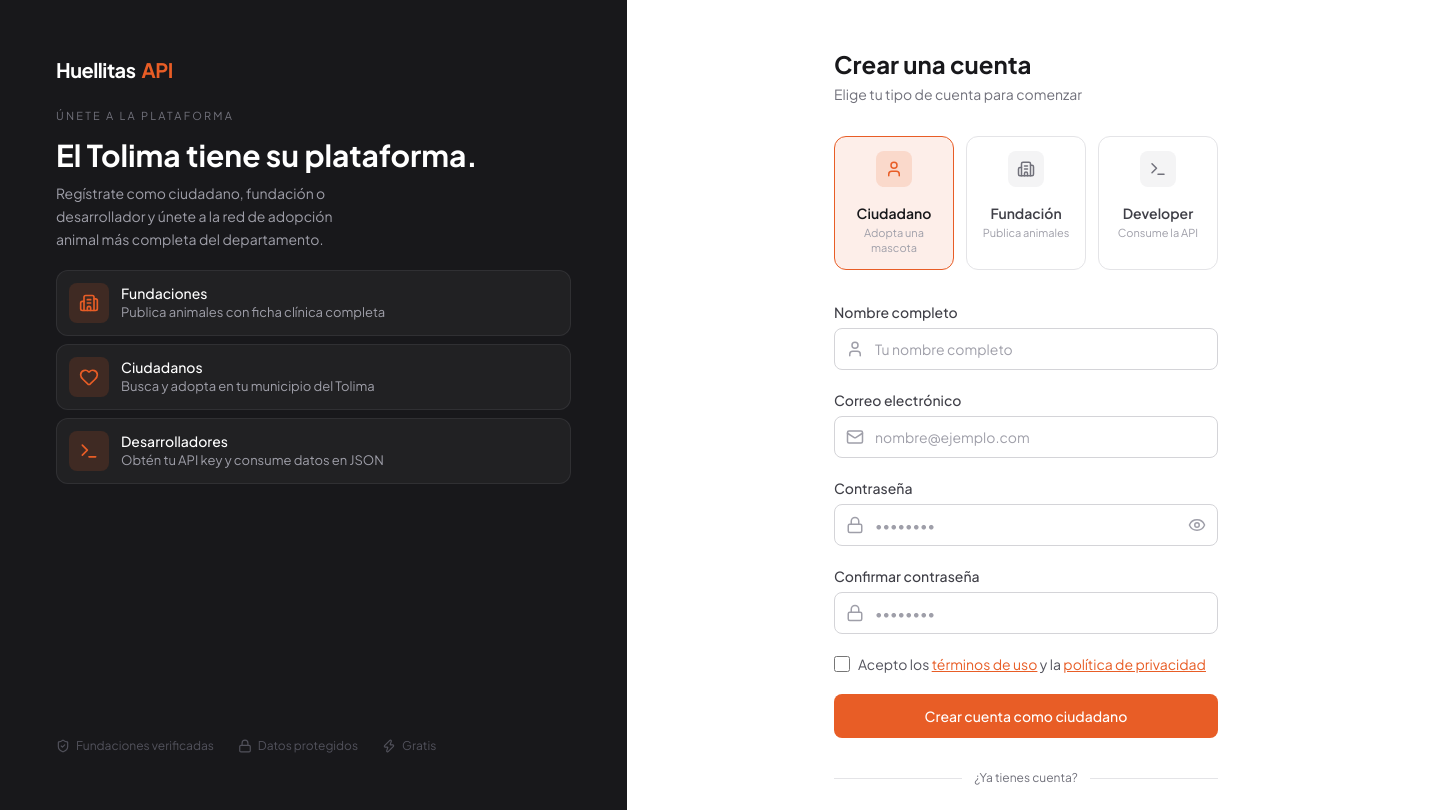
Scenario: RegisterPage › switches to Developer account type
The width and height of the screenshot is (1440, 810).
What coordinates should you click on to do the following:
click the text "Developer"
I would click on:
 (1158, 213)
Its box is x1=1118 y1=203 x2=1198 y2=223.
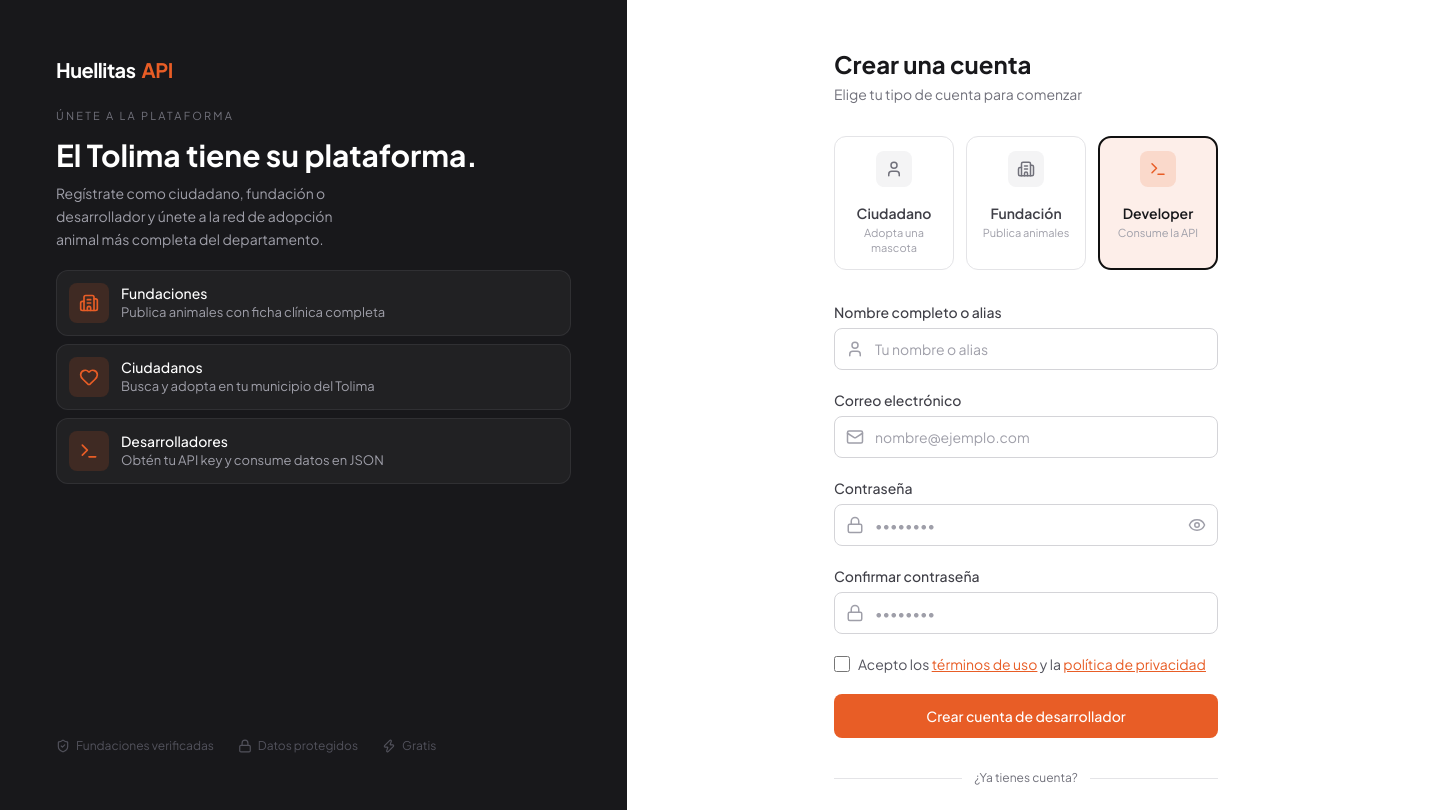
Check: the button "Crear cuenta de desarrollador" is shown, box x1=834 y1=694 x2=1218 y2=738
